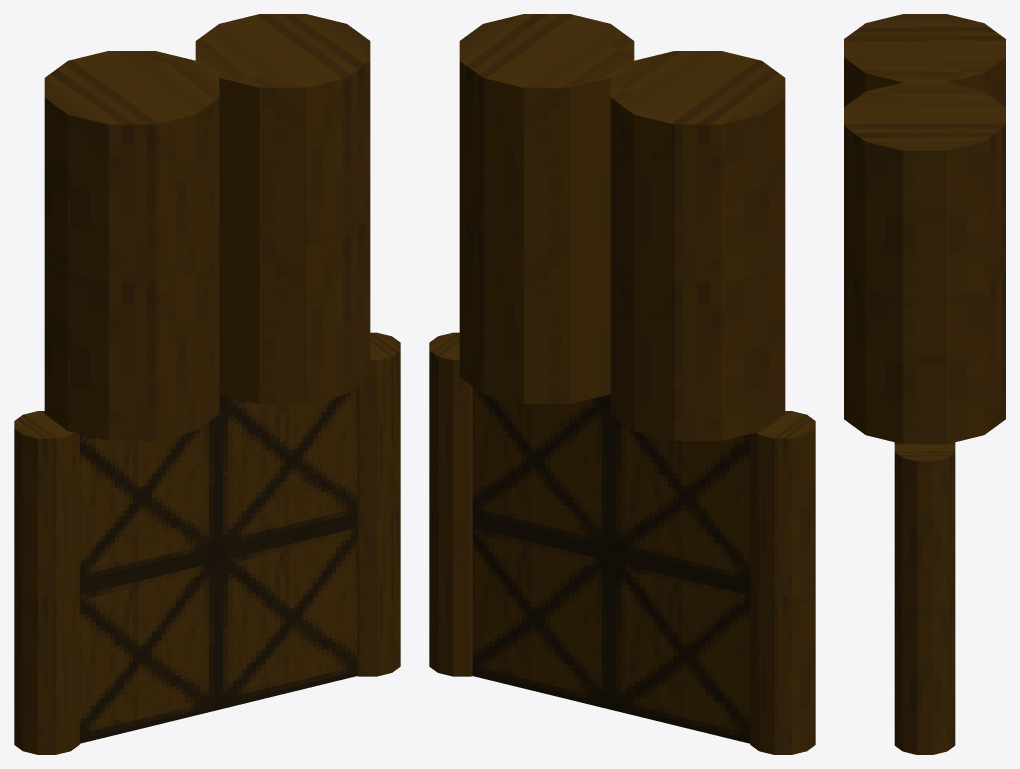
File: WallGate.obj
3 renders of one model, left to right at view 1: azimuth 30°, elevation 25°; view 2: azimuth 150°, elevation 25°; view 3: azimuth 270°, elevation 25°, orthographic. The views are drawn at different scales.
Visible parts, largest first — view 1: cylinder, cuboid; view 2: cylinder, cuboid; view 3: cylinder.
Part boxes in pixels (bbox=[...]): cylinder: bbox=[14, 14, 400, 754]; cuboid: bbox=[79, 387, 357, 743]; cylinder: bbox=[429, 14, 815, 754]; cuboid: bbox=[472, 387, 750, 743]; cylinder: bbox=[844, 14, 1005, 754].
Size of the model in its own units: 2.5 by 4 by 1.
